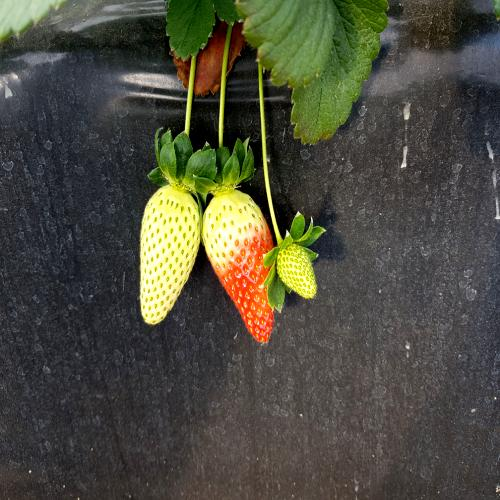partially-ripe: (202, 180, 280, 356)
unripe: (137, 167, 206, 336)
